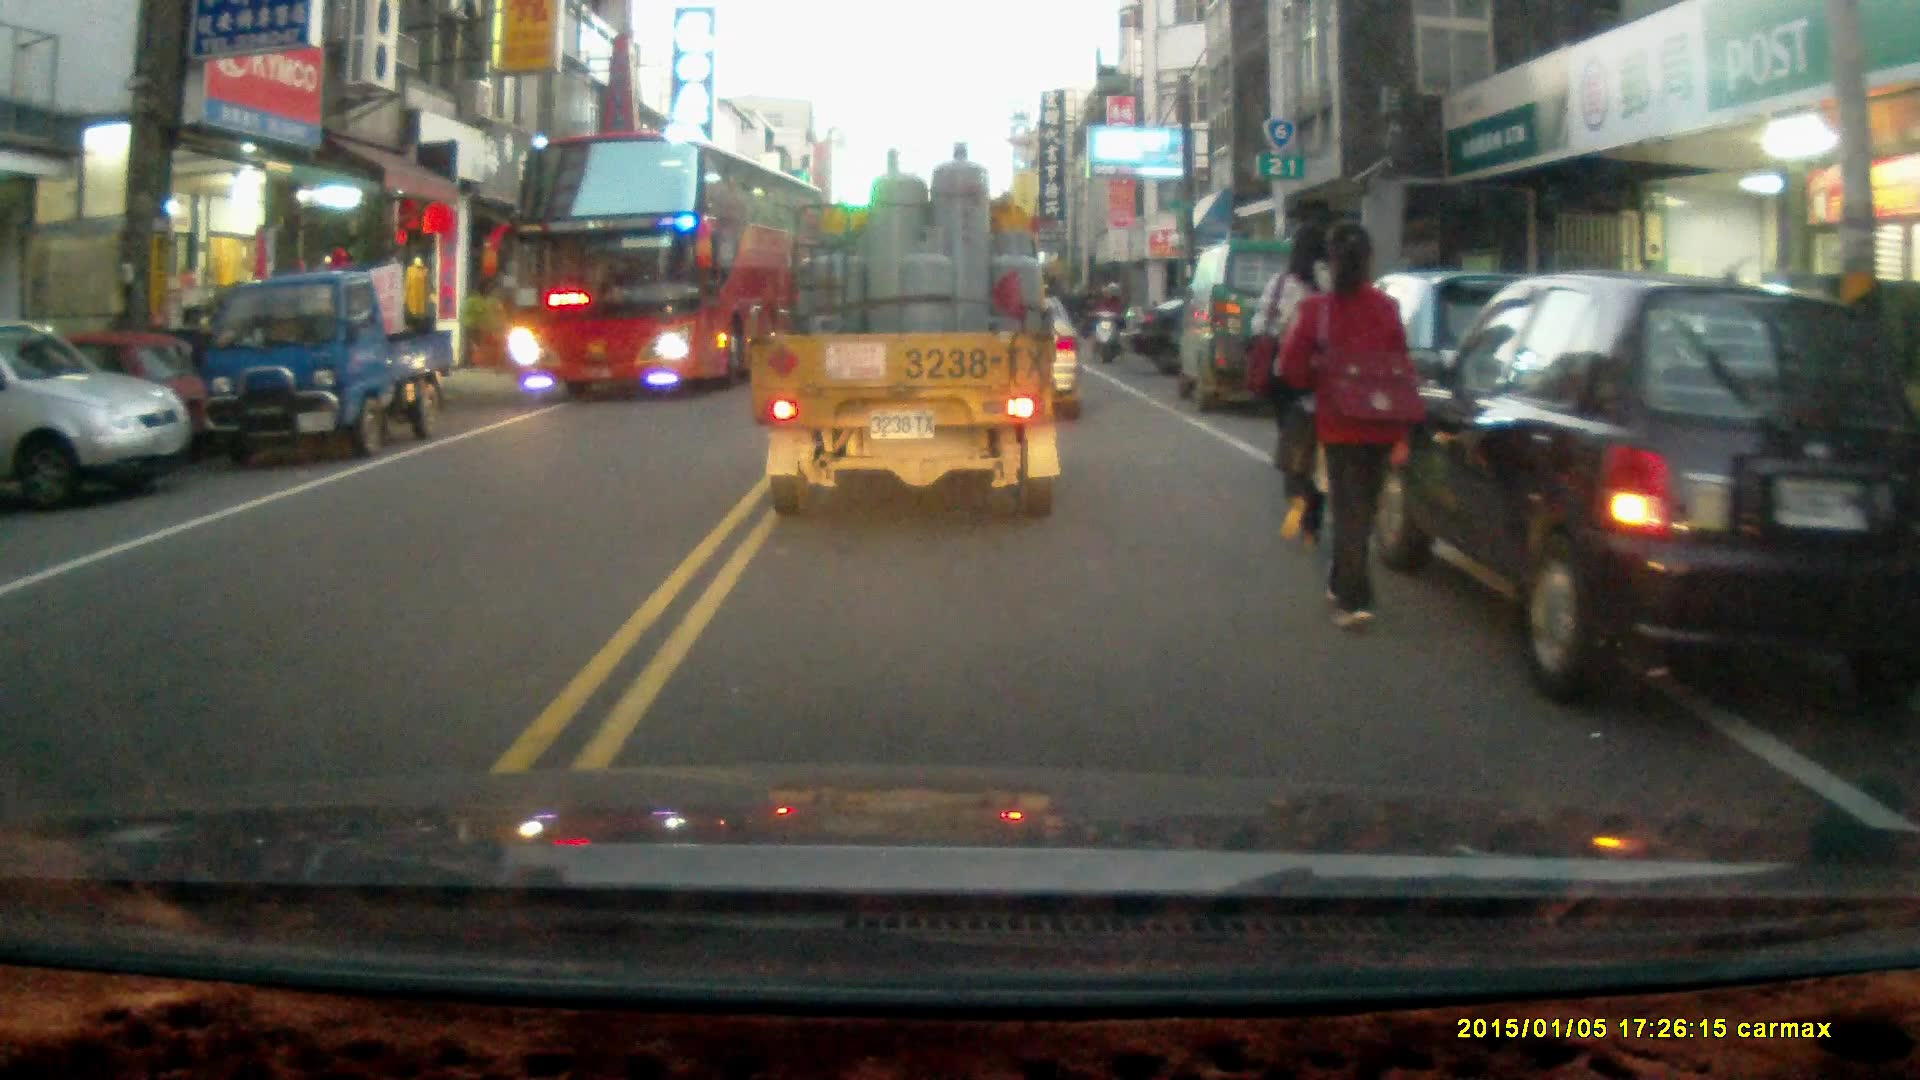pedestrian: (1278, 217, 1419, 628), (1250, 220, 1362, 553)
rider: (1090, 278, 1129, 365)
vehicle: (1384, 270, 1920, 718), (747, 142, 1069, 524), (505, 131, 826, 406), (199, 274, 459, 458), (1, 319, 190, 520), (1179, 238, 1372, 417)
